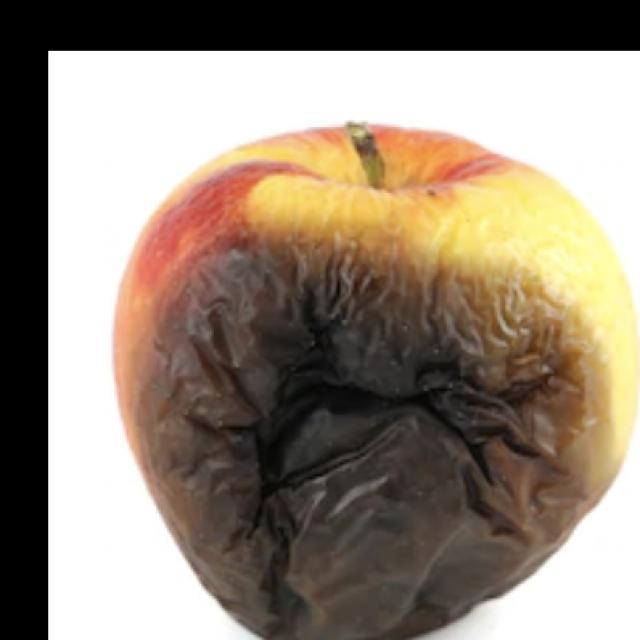Rotten: (112, 114, 640, 640)
